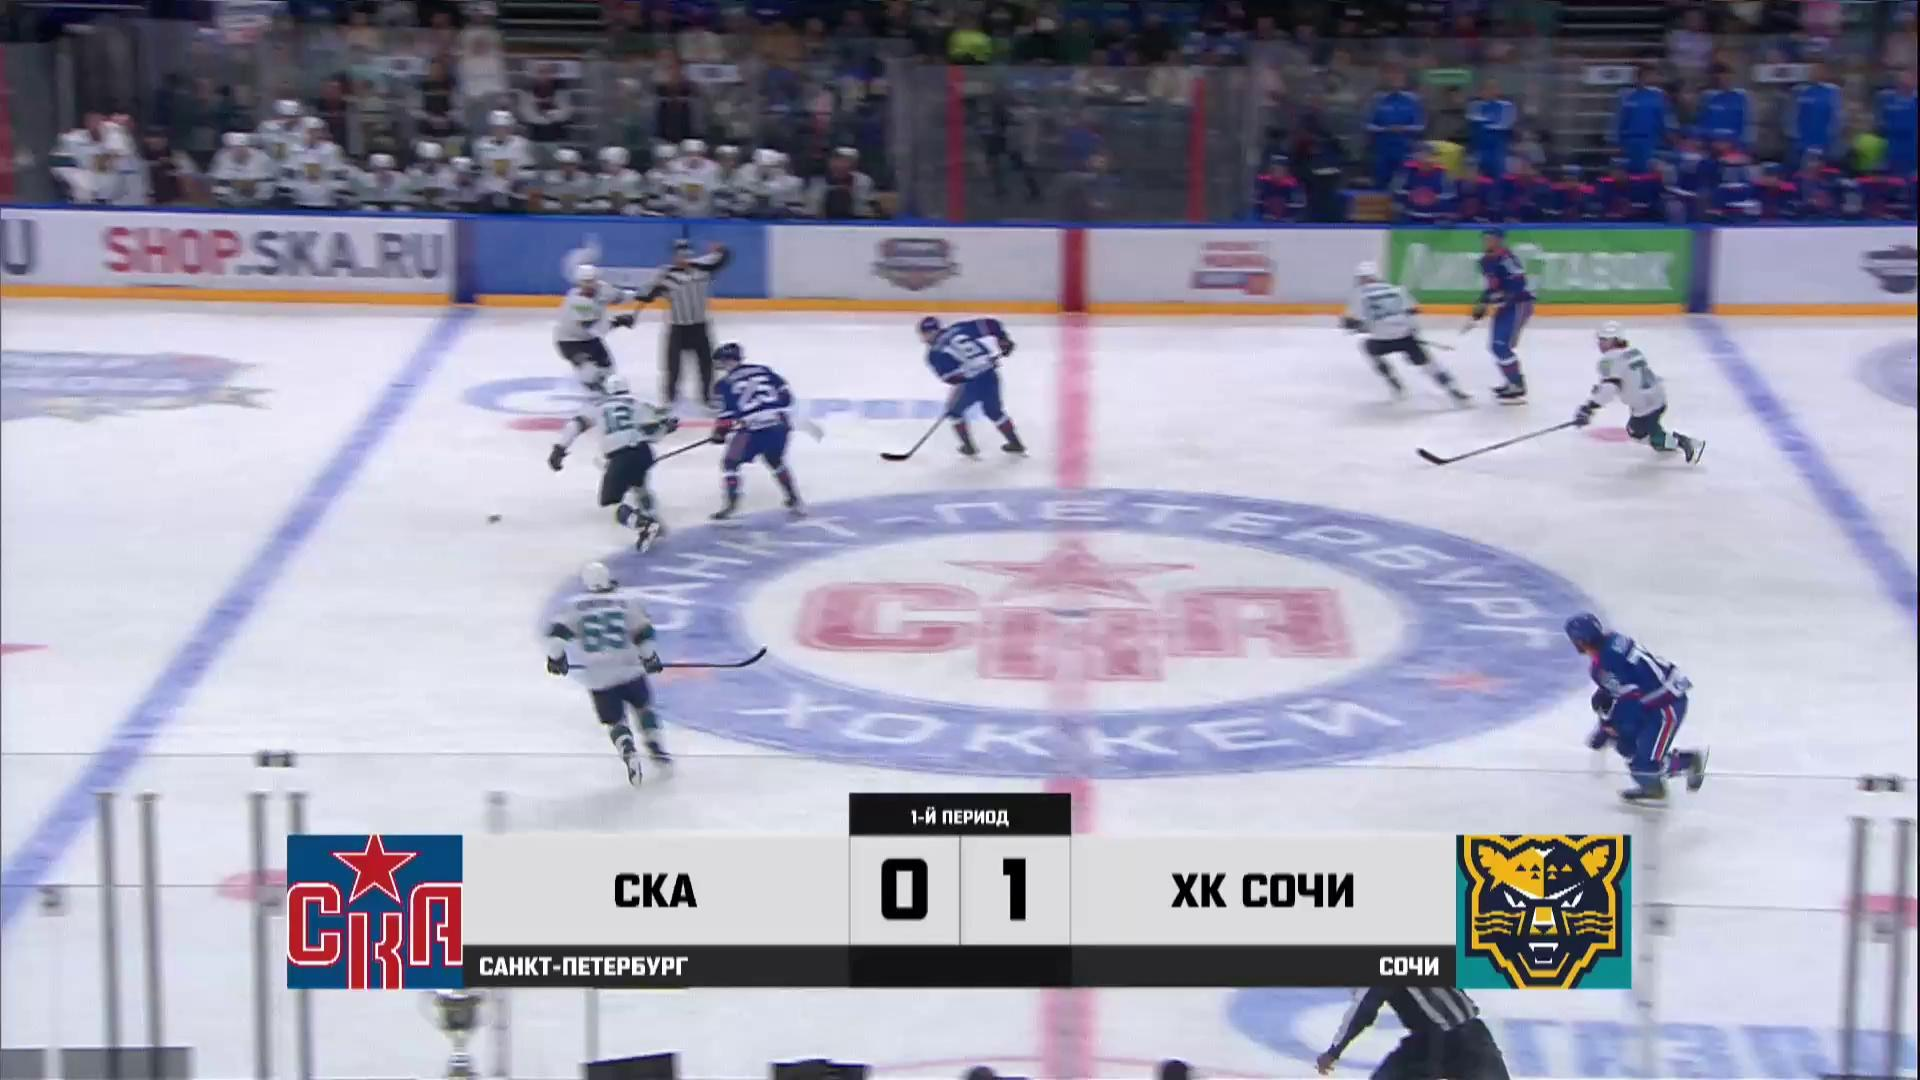ball: (488, 514, 502, 524)
